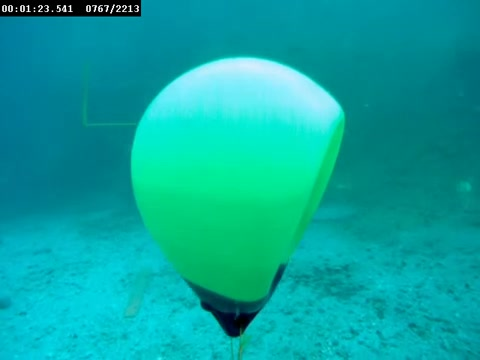buoy_green: (127, 51, 345, 335)
